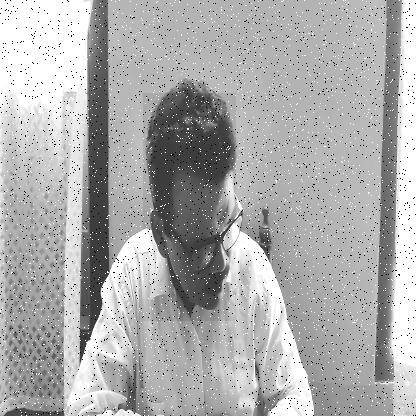Distracted: (143, 93, 236, 321)
